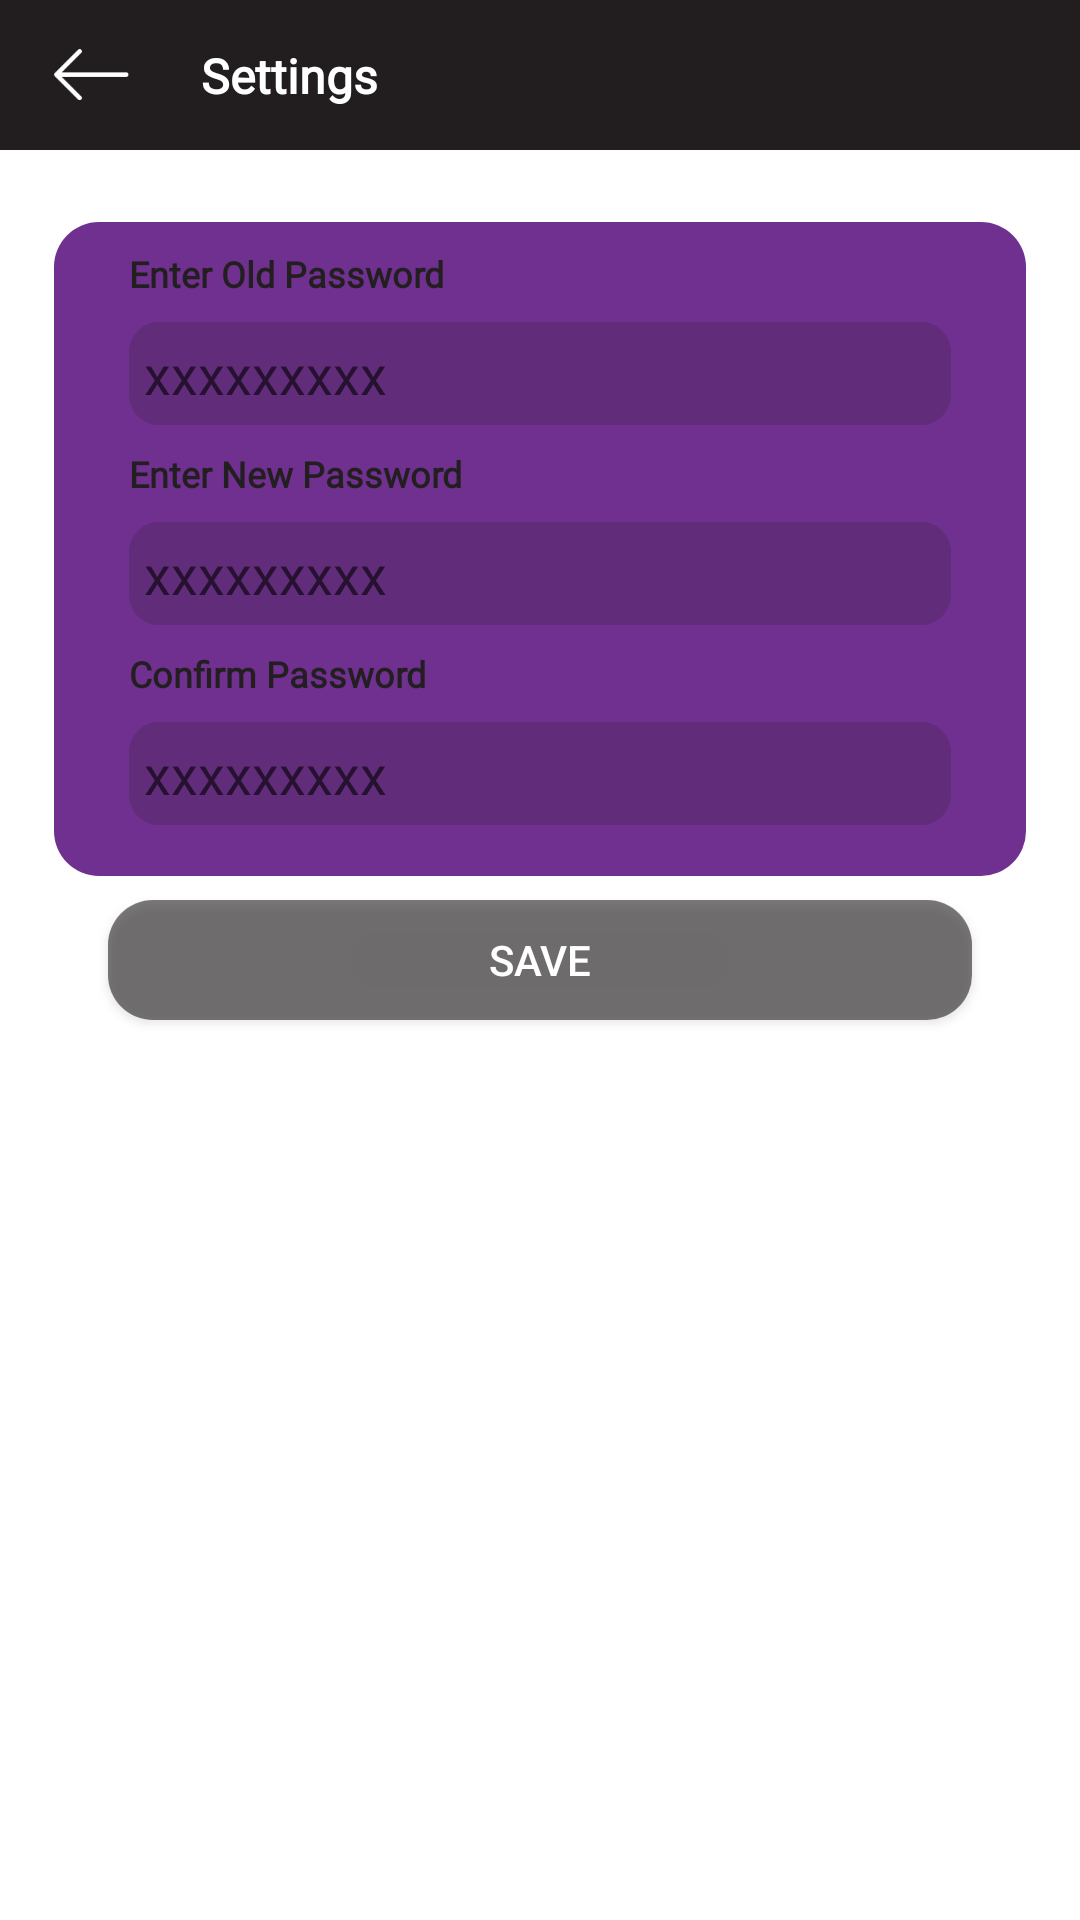

Icons on this 1080 × 1920 Android screen, each with the point to tap as (x,y):
back: (91,74)
